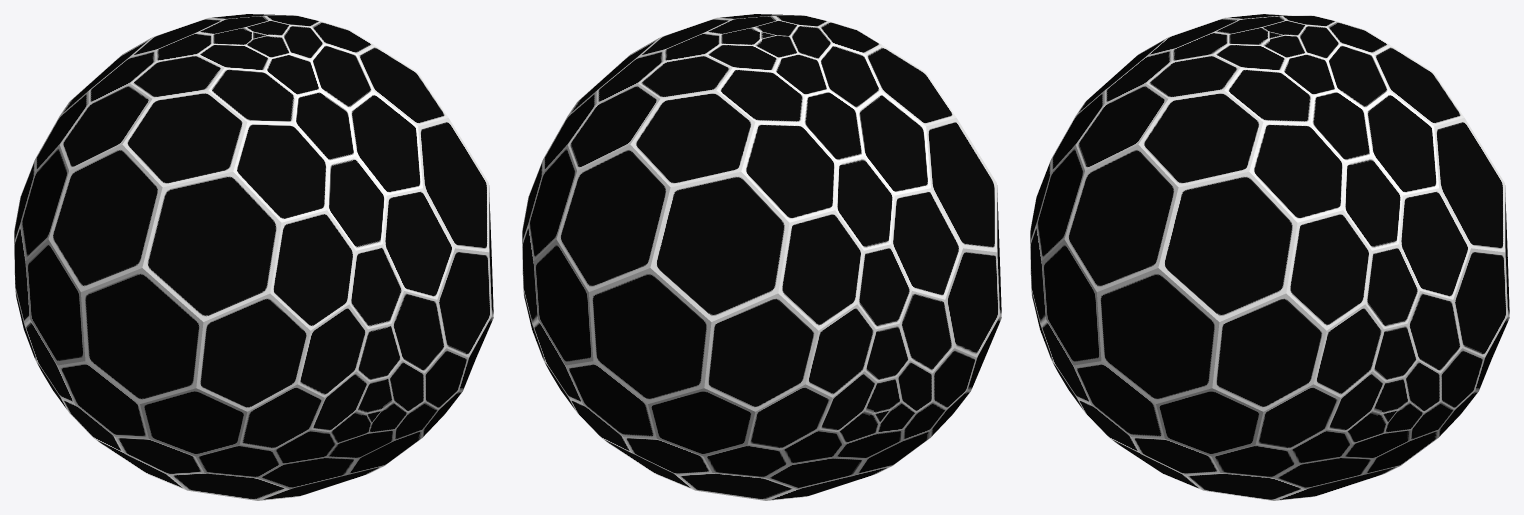
Rendered from Effects.fbx.
The picture shows the model from 3 angles, left to right: view 1: azimuth 30°, elevation 25°; view 2: azimuth 150°, elevation 25°; view 3: azimuth 270°, elevation 25°; orthographic projection.
Visible parts, largest first — view 1: GD_mesh; view 2: GD_mesh; view 3: GD_mesh.
Part boxes in pixels (x1,y1,x2,y2): GD_mesh: (14, 14, 493, 500); GD_mesh: (522, 14, 1001, 500); GD_mesh: (1030, 14, 1509, 500).
Bounding box in the file's own units: 196 × 200 × 196.
